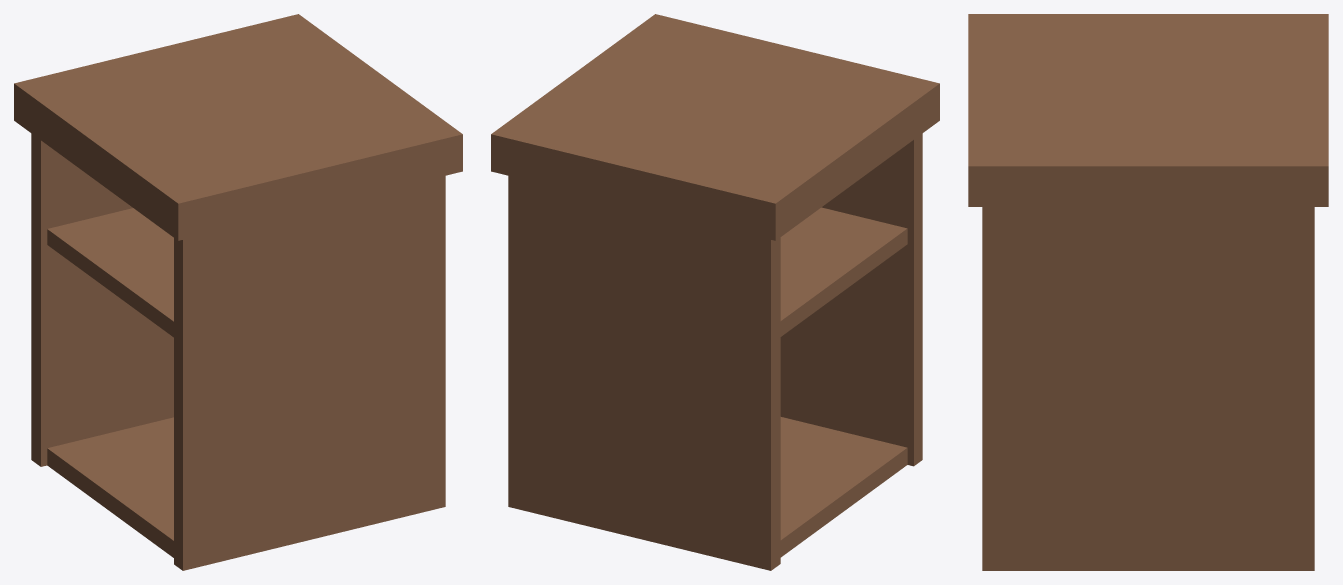
The model's file is Bedside_Table.fbx.
The picture shows the model from 3 angles, left to right: view 1: azimuth 30°, elevation 25°; view 2: azimuth 150°, elevation 25°; view 3: azimuth 270°, elevation 25°; orthographic projection. The views are drawn at different scales.
Parts seen in each view (by area): view 1: Bedside Table; view 2: Bedside Table; view 3: Bedside Table.
Boxes of the visible parts, x1=… form: Bedside Table: x1=14, y1=14, x2=462, y2=570; Bedside Table: x1=491, y1=14, x2=939, y2=570; Bedside Table: x1=968, y1=14, x2=1328, y2=570.
Bounding box in the file's own units: 800 × 1006 × 800.
